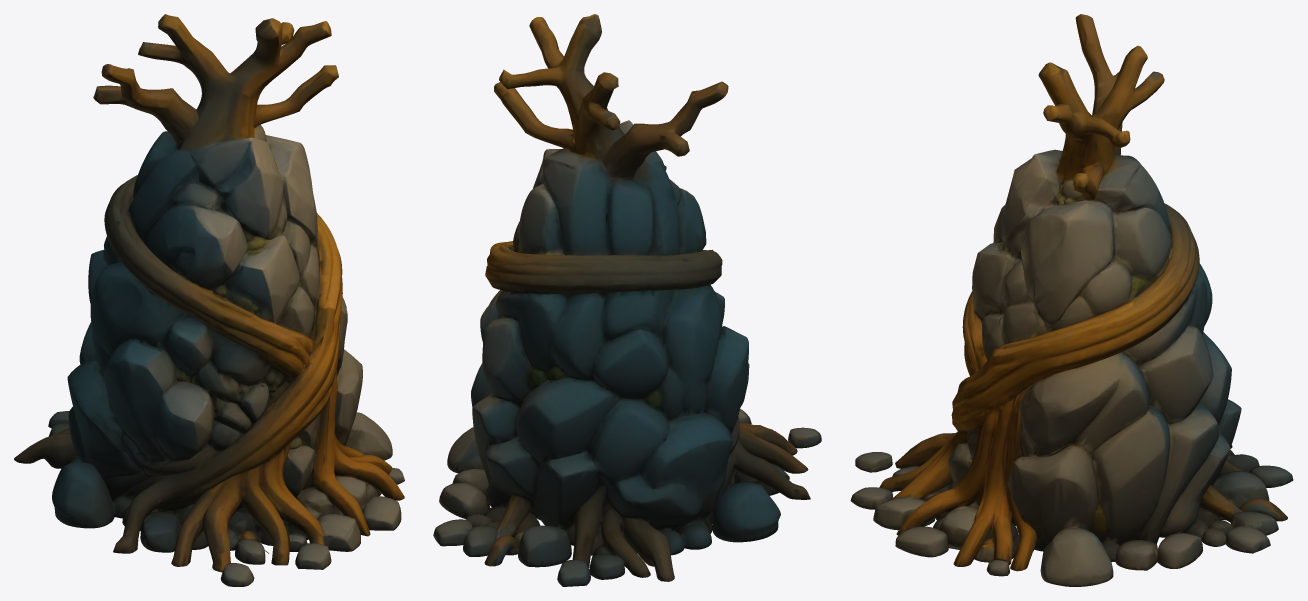
File: roots1.opt.glb
The picture shows the model from 3 angles, left to right: view 1: azimuth 30°, elevation 25°; view 2: azimuth 150°, elevation 25°; view 3: azimuth 270°, elevation 25°; orthographic projection.
Parts seen in each view (by area): view 1: node_0; view 2: node_0; view 3: node_0.
Part boxes in pixels (<box>): node_0: <box>14,14,404,586</box>; node_0: <box>433,14,821,586</box>; node_0: <box>850,14,1293,586</box>.
Size of the model in its own units: 0.6443 by 0.8768 by 0.7617.
1 material, 1 textured.
